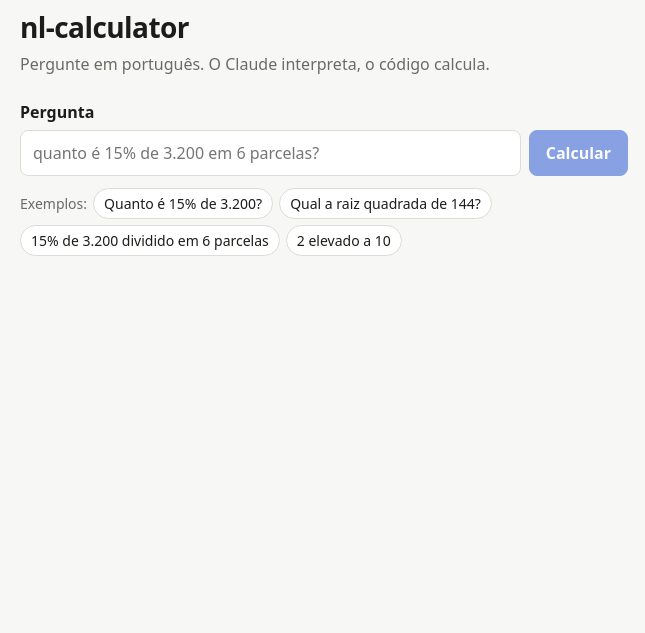
Test: keeps history after network error
The width and height of the screenshot is (645, 633).
In the field labelled "Pergunta": (270, 153) [20,130,521,176], type "primeira"
Then press Enter
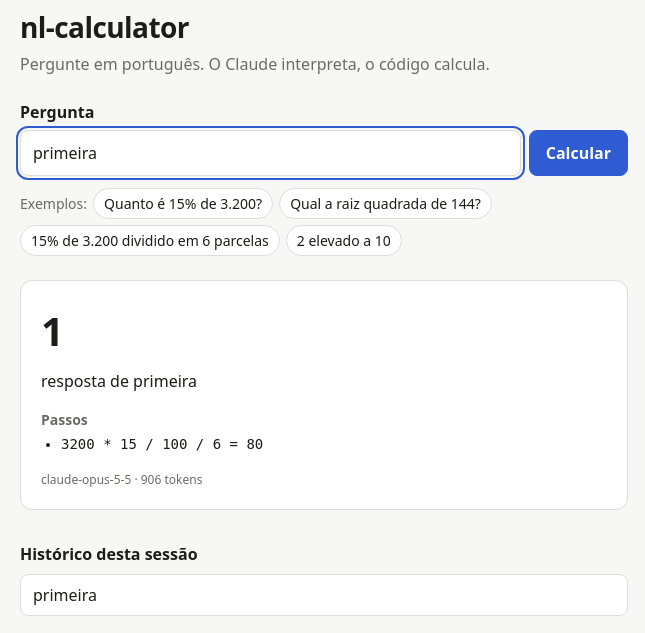
Now the text "resposta de primeira" is shown, box [41,370,197,392]
Replace the text in the field labelled "Pergunta" with "segunda": (270, 153) [20,130,521,176]
Then press Enter
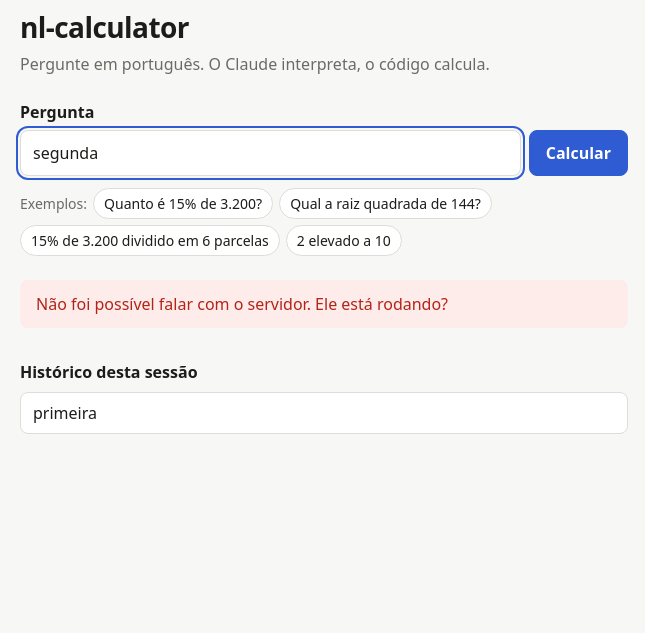
Now the message reads "Não foi possível falar com o servidor. Ele está rodando?", box [36,293,448,315]
